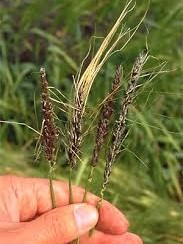Wheat Loose Smut: (29, 67, 152, 196)
